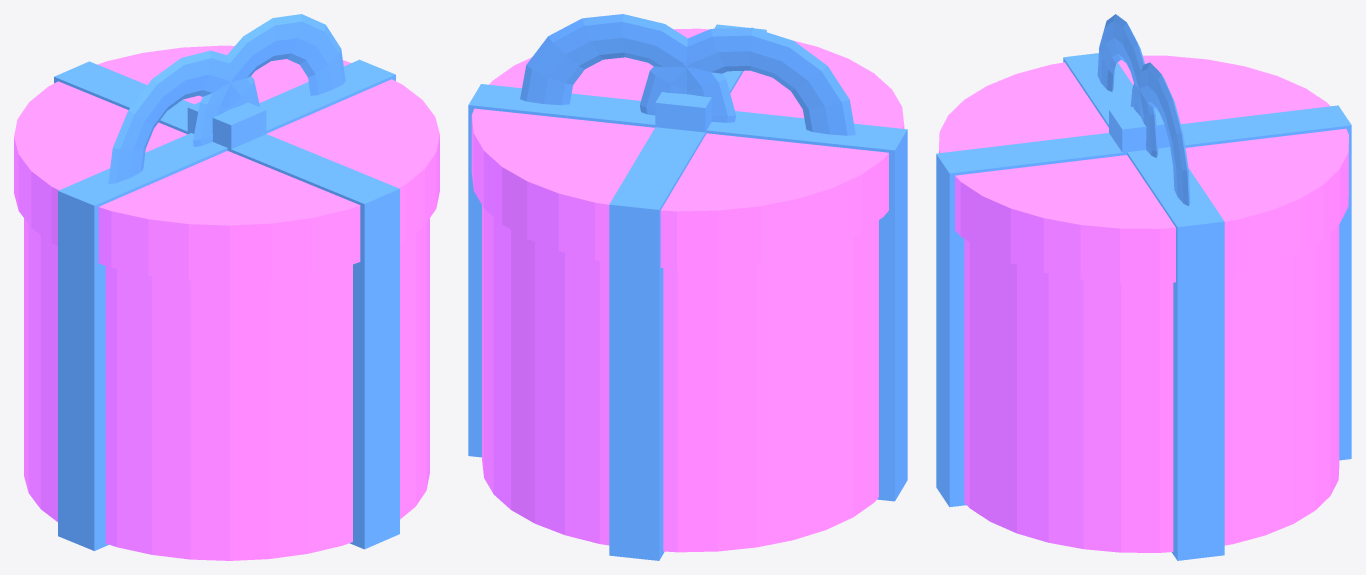
Rendered from Tmpl_Round_Root_201.glb.
The picture shows the model from 3 angles, left to right: view 1: azimuth 30°, elevation 25°; view 2: azimuth 150°, elevation 25°; view 3: azimuth 270°, elevation 25°; orthographic projection. The views are drawn at different scales.
Visible parts, largest first — view 1: Tmpl_Round_Base.199, Tmpl_Round_Lid.199, Tmpl_Round_Ribbon_X.199, Tmpl_Round_Ribbon_Y.199, Tmpl_Round_BowR.199, Tmpl_Round_BowL.199, Tmpl_Round_BowKnot.199; view 2: Tmpl_Round_Base.199, Tmpl_Round_Lid.199, Tmpl_Round_Ribbon_Y.199, Tmpl_Round_Ribbon_X.199, Tmpl_Round_BowR.199, Tmpl_Round_BowL.199, Tmpl_Round_BowKnot.199; view 3: Tmpl_Round_Base.199, Tmpl_Round_Lid.199, Tmpl_Round_Ribbon_X.199, Tmpl_Round_Ribbon_Y.199, Tmpl_Round_BowL.199, Tmpl_Round_BowR.199, Tmpl_Round_BowKnot.199.
Part boxes in pixels (bbox=[...]): Tmpl_Round_Base.199: bbox=[24, 218, 429, 560]; Tmpl_Round_Lid.199: bbox=[14, 45, 439, 282]; Tmpl_Round_Ribbon_X.199: bbox=[58, 59, 395, 550]; Tmpl_Round_Ribbon_Y.199: bbox=[54, 61, 399, 549]; Tmpl_Round_BowR.199: bbox=[193, 14, 345, 146]; Tmpl_Round_BowL.199: bbox=[108, 50, 259, 184]; Tmpl_Round_BowKnot.199: bbox=[187, 102, 266, 151]; Tmpl_Round_Base.199: bbox=[482, 205, 878, 552]; Tmpl_Round_Lid.199: bbox=[471, 28, 904, 268]; Tmpl_Round_Ribbon_Y.199: bbox=[609, 24, 766, 560]; Tmpl_Round_Ribbon_X.199: bbox=[468, 84, 907, 501]; Tmpl_Round_BowR.199: bbox=[520, 14, 735, 122]; Tmpl_Round_BowL.199: bbox=[640, 27, 855, 135]; Tmpl_Round_BowKnot.199: bbox=[655, 92, 711, 134]; Tmpl_Round_Base.199: bbox=[964, 224, 1339, 552]; Tmpl_Round_Lid.199: bbox=[939, 55, 1348, 283]; Tmpl_Round_Ribbon_X.199: bbox=[1063, 53, 1224, 560]; Tmpl_Round_Ribbon_Y.199: bbox=[936, 105, 1351, 507]; Tmpl_Round_BowL.199: bbox=[1097, 14, 1158, 157]; Tmpl_Round_BowR.199: bbox=[1130, 62, 1190, 206]; Tmpl_Round_BowKnot.199: bbox=[1109, 106, 1169, 155].
Bounding box in the file's own units: 0.9427 × 1.06 × 0.9427.
